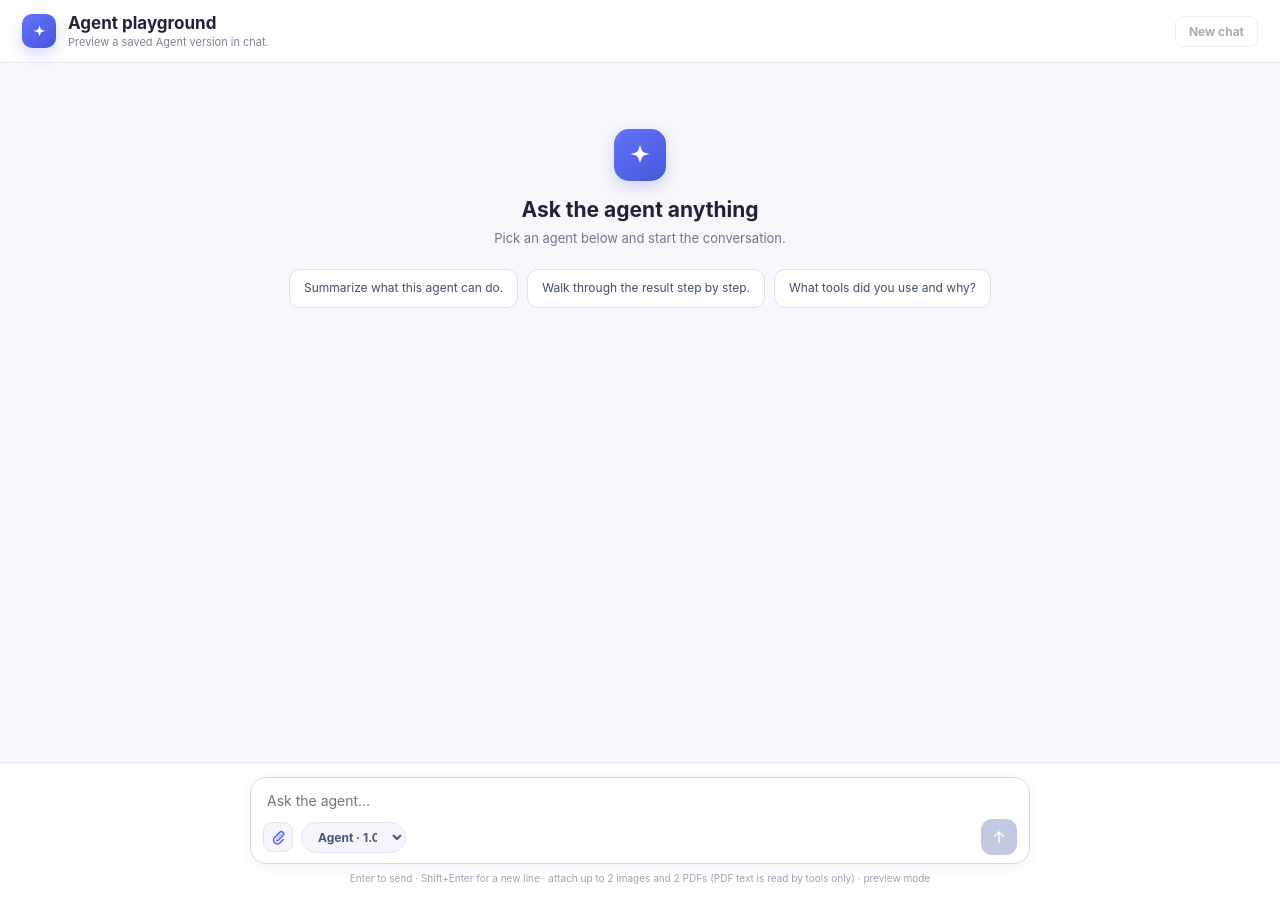
ChatPage › structuredResponse・全種トレース・トークンを応答に描画する
Step 1. Type "hello" into the text box named "Chat message" → (640, 800), box [263,788,1017,813]
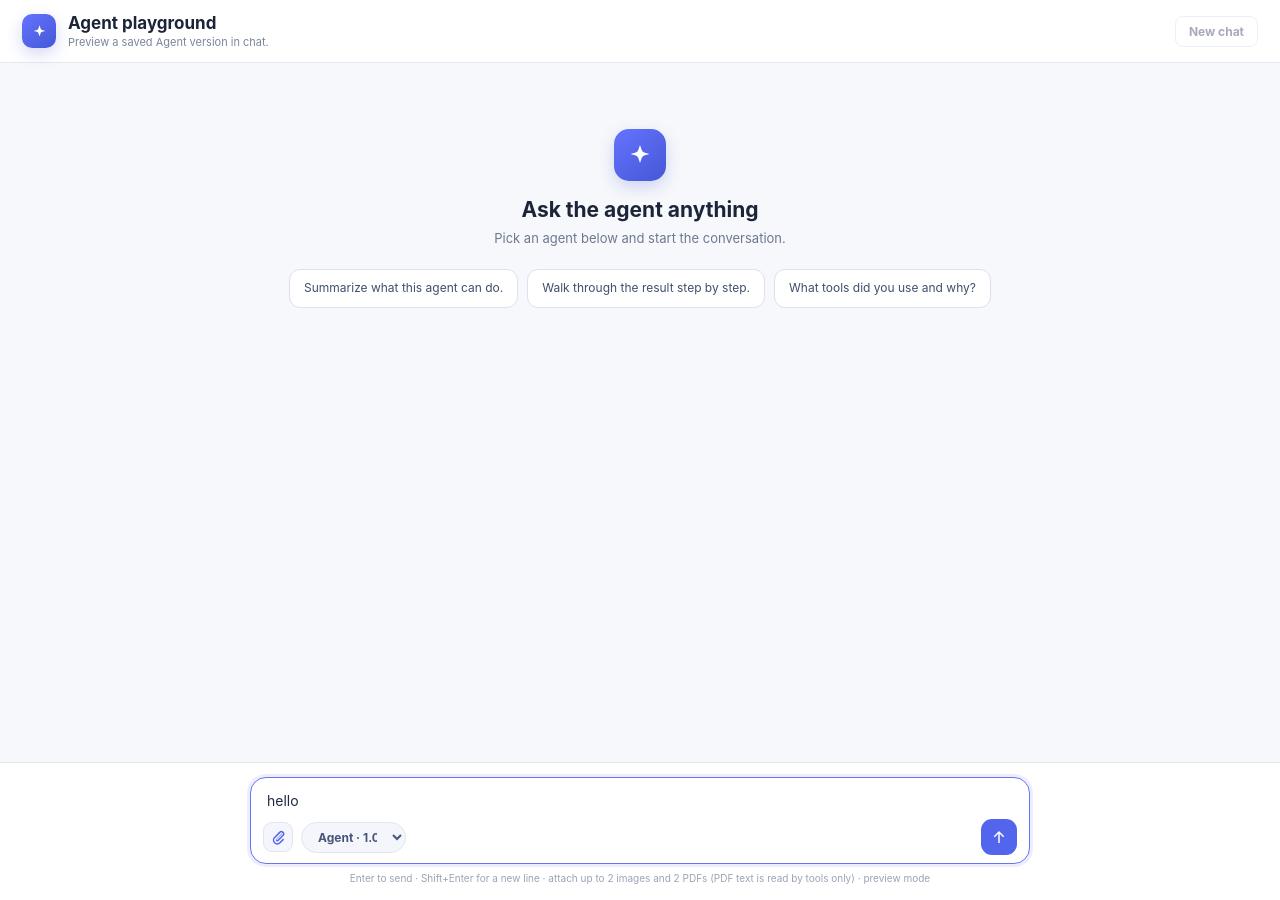
Step 2. Click the button named "Send" → (999, 837), box [981,819,1017,855]
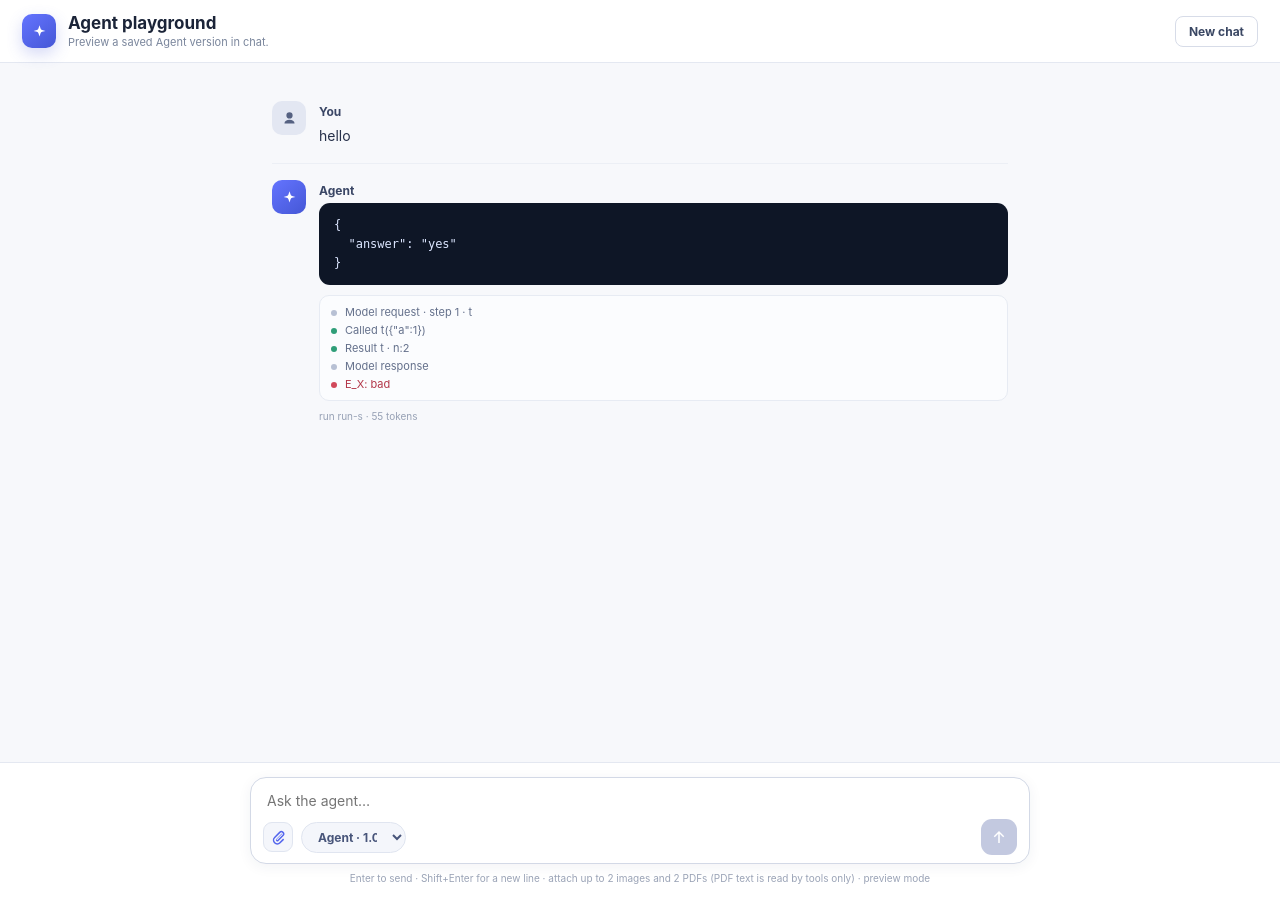
Check: the text "{ \"answer\": \"yes\" }" is shown, box [319,204,1008,285]
Check: the text "run run-s · 55 tokens" is shown, box [319,410,418,422]
Check: the text "Model response" is shown, box [331,359,429,373]
